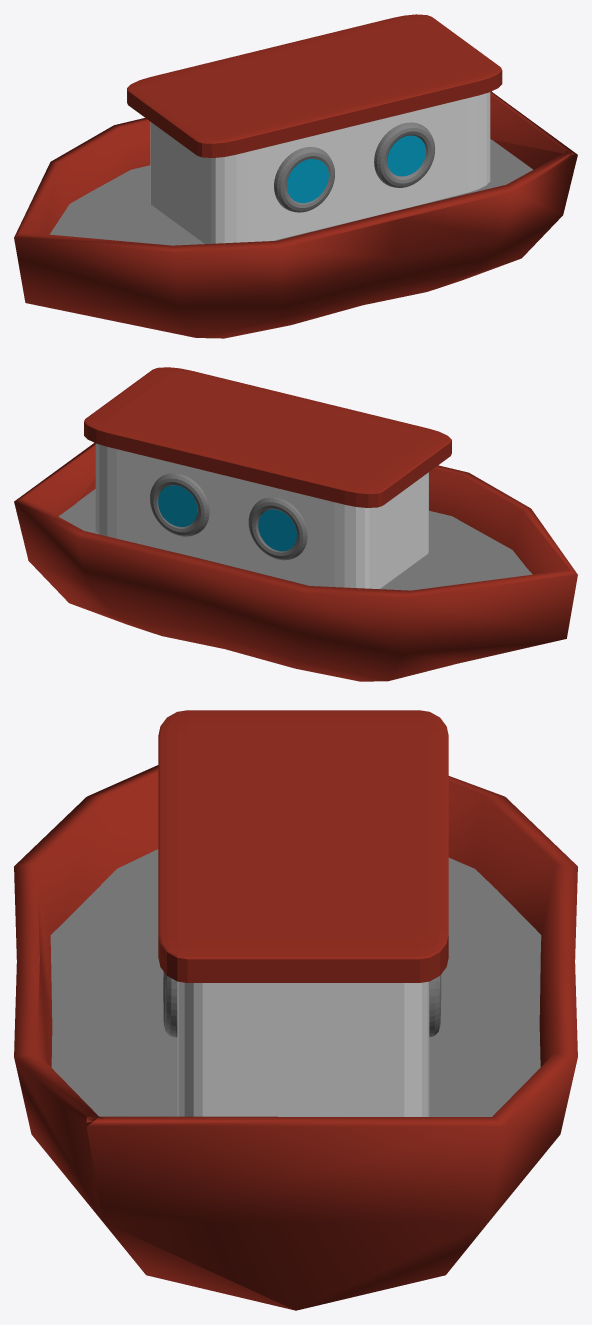
Rendered from boat.glb.
The picture shows the model from 3 angles, top to bottom: view 1: azimuth 30°, elevation 25°; view 2: azimuth 150°, elevation 25°; view 3: azimuth 270°, elevation 25°; orthographic projection. The views are drawn at different scales.
Parts seen in each view (by area): view 1: Sphere, Roundcube.002, Roundcube.001, Plane, Torus.001, Torus, Circle.003, Circle.002; view 2: Sphere, Roundcube.002, Roundcube.001, Plane, Torus.003, Torus.002, Circle.001, Circle; view 3: Sphere, Roundcube.002, Plane, Roundcube.001, Torus.001.
Boxes of the visible parts, x1,y1,x2,y2 form: Sphere: (14,91,577,338); Roundcube.002: (127,14,502,157); Roundcube.001: (150,92,490,243); Plane: (50,139,532,245); Torus.001: (374,122,434,187); Torus: (274,147,334,212); Circle.003: (287,159,328,203); Circle.002: (387,135,425,176); Sphere: (14,443,577,681); Roundcube.002: (84,367,451,507); Roundcube.001: (95,443,428,588); Plane: (58,489,532,590); Torus.003: (150,473,209,536); Torus.002: (248,497,307,560); Circle.001: (158,485,197,526); Circle: (258,509,296,551); Sphere: (14,765,577,1310); Roundcube.002: (158,710,448,982); Plane: (50,849,541,1116); Roundcube.001: (177,981,429,1116); Torus.001: (163,972,177,1037).
Bounding box in the file's own units: 1.7 × 0.6984 × 0.9769.
